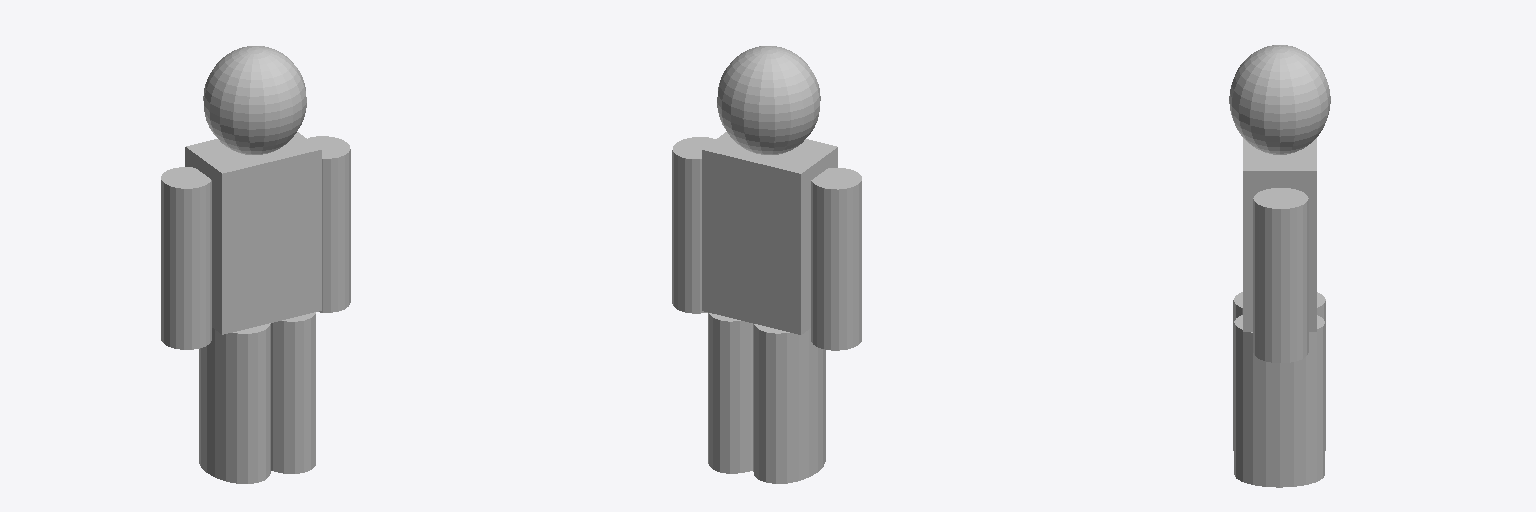
File: char1.obj
3 renders of one model, left to right at view 1: azimuth 30°, elevation 25°; view 2: azimuth 150°, elevation 25°; view 3: azimuth 270°, elevation 25°, orthographic.
Visible parts, largest first — view 1: pCube1, pCylinder2, pCylinder3, pSphere1, pCylinder1, pCylinder4; view 2: pCube1, pCylinder2, pCylinder3, pSphere1, pCylinder1, pCylinder4; view 3: pCylinder1, pCylinder4, pSphere1, pCube1, pCylinder2.
Part boxes in pixels (x1,y1,x2,y2): pCube1: (185,132,321,334); pCylinder2: (199,323,270,483); pCylinder3: (161,167,211,349); pSphere1: (203,46,306,154); pCylinder1: (271,312,315,473); pCylinder4: (308,136,350,312); pCube1: (702,132,837,334); pCylinder2: (753,324,825,483); pCylinder3: (811,168,861,350); pSphere1: (717,46,820,154); pCylinder1: (708,313,752,473); pCylinder4: (672,137,715,313); pCylinder1: (1234,315,1324,487); pCylinder4: (1253,188,1308,362); pSphere1: (1229,45,1330,154); pCube1: (1243,138,1316,331); pCylinder2: (1233,292,1325,450).
Bounding box in the file's own units: 3.56 × 7.7 × 1.72.